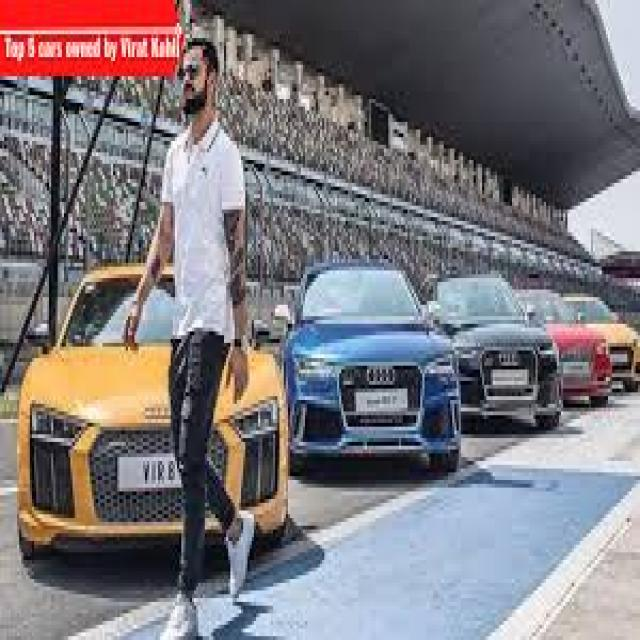car: (22, 268, 286, 556), (284, 256, 460, 473), (436, 278, 560, 438), (560, 292, 612, 411), (613, 322, 639, 388)
person: (122, 49, 265, 634)
